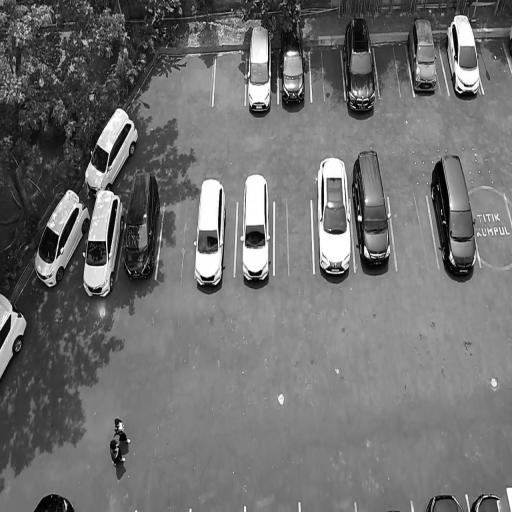Car: (28, 178, 95, 296), (425, 146, 483, 282), (79, 93, 146, 203), (350, 141, 395, 282), (77, 186, 127, 296), (314, 151, 353, 288), (193, 172, 229, 298), (123, 162, 160, 282), (342, 3, 378, 125), (238, 168, 272, 290), (442, 9, 485, 103), (405, 9, 448, 102), (243, 19, 278, 121), (278, 12, 310, 118), (0, 287, 31, 385), (426, 483, 463, 512), (472, 483, 504, 512)
Space Available: (387, 196, 440, 268), (155, 195, 198, 278), (468, 193, 512, 266), (275, 198, 313, 275), (374, 36, 416, 97), (476, 33, 512, 95), (212, 46, 248, 104), (311, 40, 345, 100)
